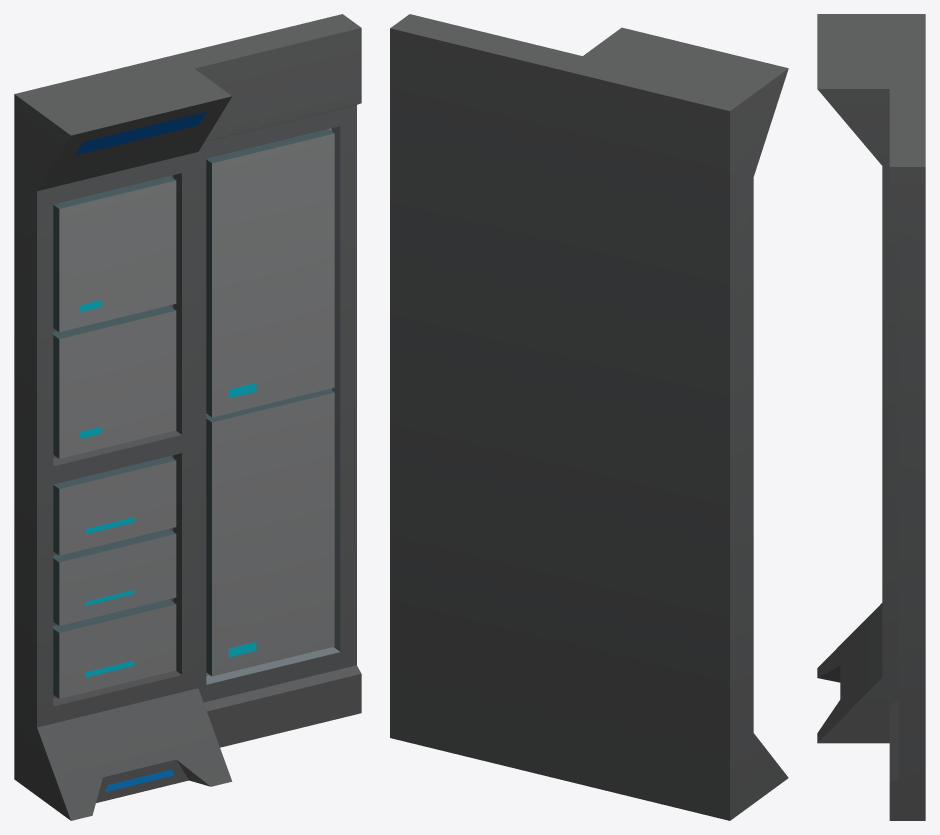
Rendered from Wall_type_B_011.fbx.
3 views of the same model, side by side, from view 1: azimuth 30°, elevation 25°; view 2: azimuth 150°, elevation 25°; view 3: azimuth 270°, elevation 25° (orthographic). The views are drawn at different scales.
Visible parts, largest first — view 1: Wall_type_B_011; view 2: Wall_type_B_011; view 3: Wall_type_B_011.
Part boxes in pixels (left/top/right/bottom): Wall_type_B_011: left=14, top=14, right=361, bottom=820; Wall_type_B_011: left=390, top=14, right=788, bottom=820; Wall_type_B_011: left=817, top=14, right=925, bottom=820.
Bounding box in the file's own units: 200 × 60 × 400.
